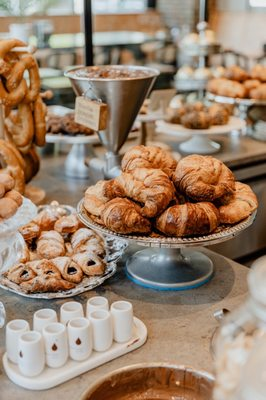pizza: (64, 65, 161, 154), (8, 331, 46, 377), (42, 321, 69, 368), (66, 317, 94, 362), (88, 308, 114, 352), (110, 301, 134, 342)
sushi: (78, 364, 216, 400)
